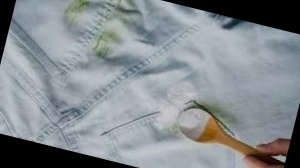earth: (102, 0, 136, 24), (62, 0, 91, 23), (95, 29, 112, 57)
